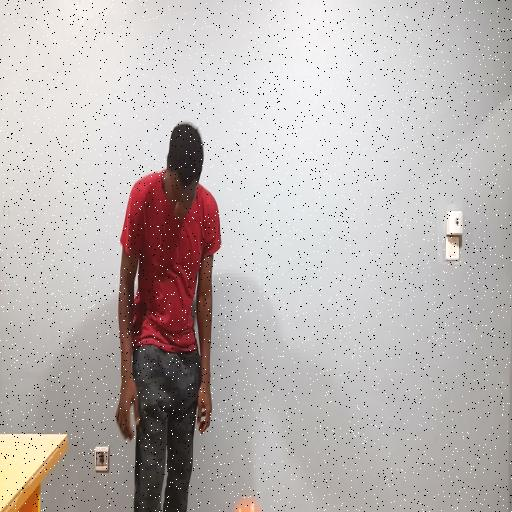plastic-ball: (229, 490, 266, 512)
